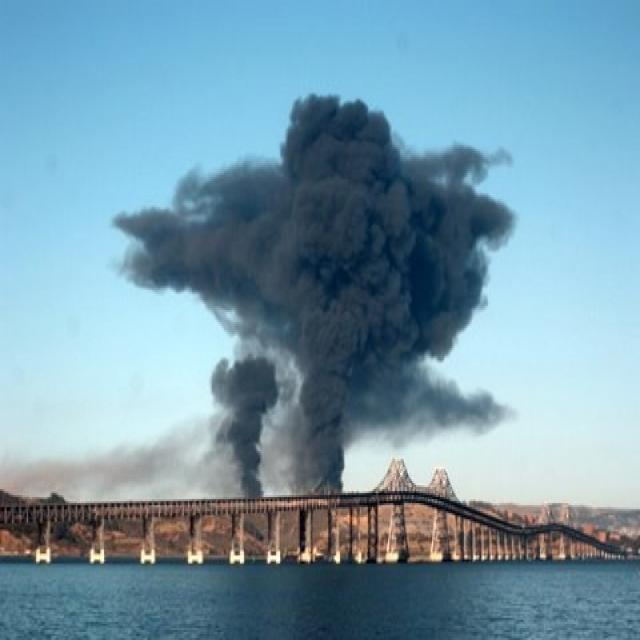Smoke: (110, 92, 520, 488)
